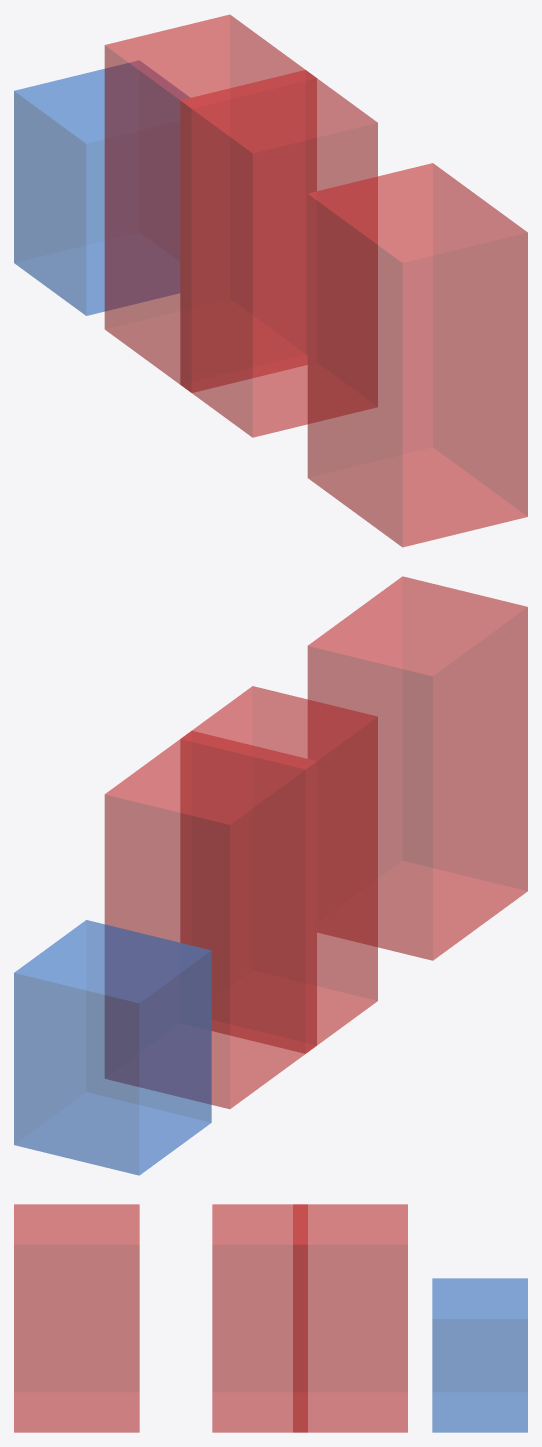
File: home_10_zones.obj
The picture shows the model from 3 angles, top to bottom: view 1: azimuth 30°, elevation 25°; view 2: azimuth 150°, elevation 25°; view 3: azimuth 270°, elevation 25°; orthographic projection. The views are drawn at different scales.
Parts seen in each view (by area): view 1: meter_panel_working_space, inverter_vlld_wall_space, base_hub_wall_space, base_core_1_footprint; view 2: meter_panel_working_space, inverter_vlld_wall_space, base_hub_wall_space, base_core_1_footprint; view 3: meter_panel_working_space, inverter_vlld_wall_space, base_hub_wall_space, base_core_1_footprint.
Part boxes in pixels (x1,y1,x2,y2): meter_panel_working_space: [307, 163, 527, 547]; inverter_vlld_wall_space: [104, 14, 316, 392]; base_hub_wall_space: [180, 70, 377, 437]; base_core_1_footprint: [14, 61, 189, 315]; meter_panel_working_space: [307, 576, 527, 960]; inverter_vlld_wall_space: [104, 731, 316, 1108]; base_hub_wall_space: [180, 686, 377, 1053]; base_core_1_footprint: [14, 920, 211, 1175]; meter_panel_working_space: [14, 1204, 139, 1432]; inverter_vlld_wall_space: [293, 1204, 407, 1432]; base_hub_wall_space: [212, 1204, 307, 1432]; base_core_1_footprint: [432, 1278, 527, 1432].
Bounding box in the file's own units: 0.9144 × 1.98 × 4.91.
